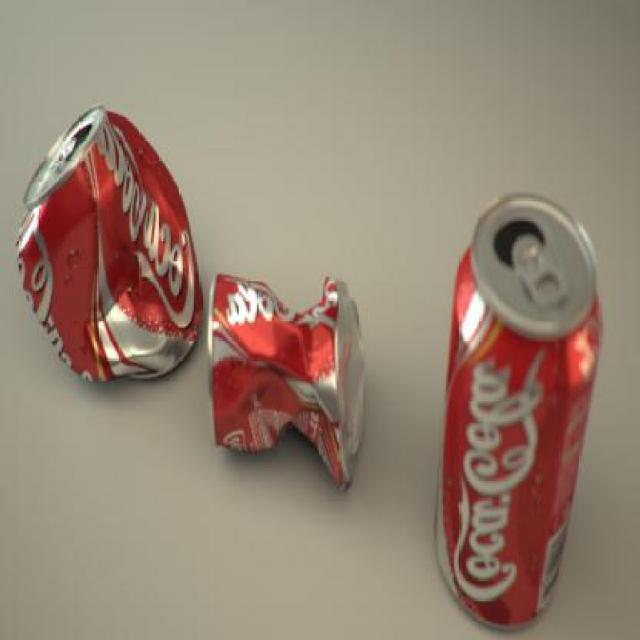can: (417, 154, 614, 638), (12, 92, 203, 425), (206, 230, 380, 502)
